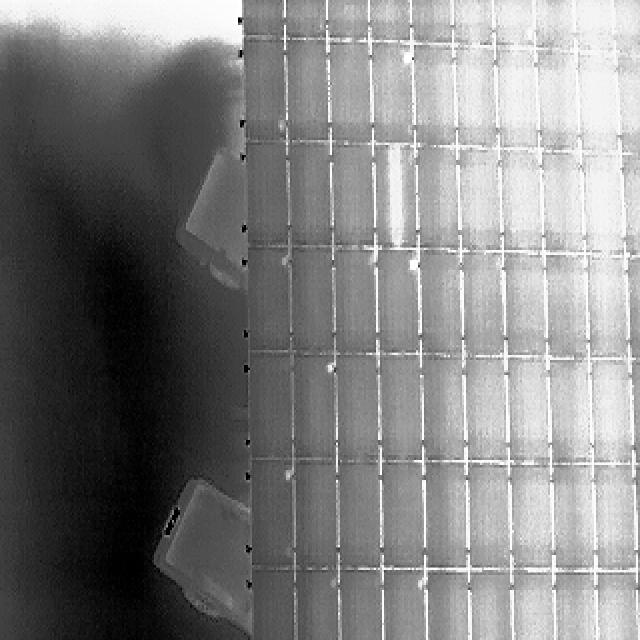Hotspots: (406, 251, 422, 283), (398, 47, 414, 71), (321, 356, 338, 376), (282, 460, 295, 486), (276, 250, 292, 269), (274, 118, 290, 134)
PV-modules: (469, 468, 522, 576), (337, 466, 388, 575), (373, 144, 425, 249), (248, 460, 296, 570), (426, 459, 474, 568), (297, 456, 342, 568), (248, 351, 295, 457), (546, 461, 592, 569), (292, 247, 338, 355), (415, 145, 462, 250), (503, 461, 549, 568), (380, 466, 426, 573), (422, 250, 468, 357), (245, 143, 291, 250), (425, 358, 470, 466), (595, 47, 640, 155), (576, 47, 622, 151), (379, 353, 424, 459), (379, 248, 424, 354), (289, 142, 334, 248), (282, 40, 328, 143), (332, 146, 377, 251), (542, 361, 586, 468), (247, 246, 292, 350), (592, 357, 636, 463), (333, 250, 377, 356), (590, 254, 634, 360), (462, 250, 506, 356), (329, 39, 374, 142), (291, 357, 335, 461), (335, 357, 378, 463), (244, 37, 288, 140), (502, 252, 545, 357), (458, 150, 502, 252), (465, 356, 508, 460), (501, 147, 544, 251), (509, 356, 551, 462), (596, 468, 638, 574), (369, 38, 412, 141), (410, 44, 454, 144), (538, 48, 580, 152), (540, 155, 583, 256), (546, 254, 587, 359), (457, 46, 500, 146), (494, 46, 536, 148), (586, 154, 626, 256), (407, 0, 495, 46), (338, 565, 388, 640), (474, 42, 509, 145), (298, 565, 344, 640), (376, 565, 422, 640), (248, 567, 294, 640), (422, 570, 468, 640), (470, 570, 514, 640), (514, 572, 556, 640), (598, 572, 638, 640), (554, 572, 594, 640), (618, 44, 640, 152), (572, 0, 614, 52), (600, 0, 640, 54), (536, 0, 576, 50), (490, 0, 532, 46), (454, 0, 496, 46), (369, 0, 414, 42), (408, 0, 451, 43), (324, 0, 368, 40), (240, 0, 286, 38), (280, 0, 324, 38), (623, 152, 639, 256), (626, 256, 640, 360)
